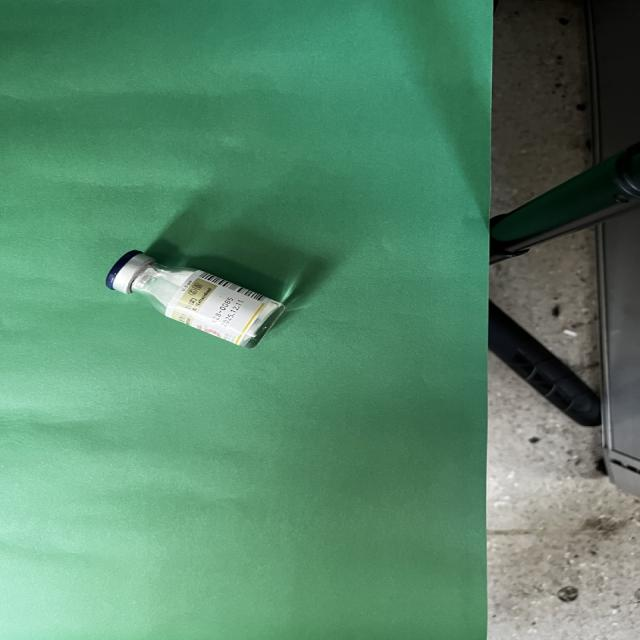Vials: (107, 251, 285, 348)
